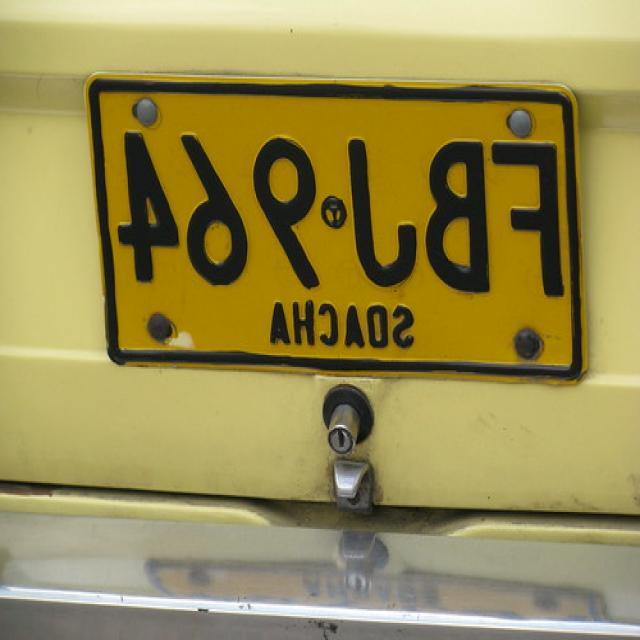placas: (106, 120, 570, 312)
